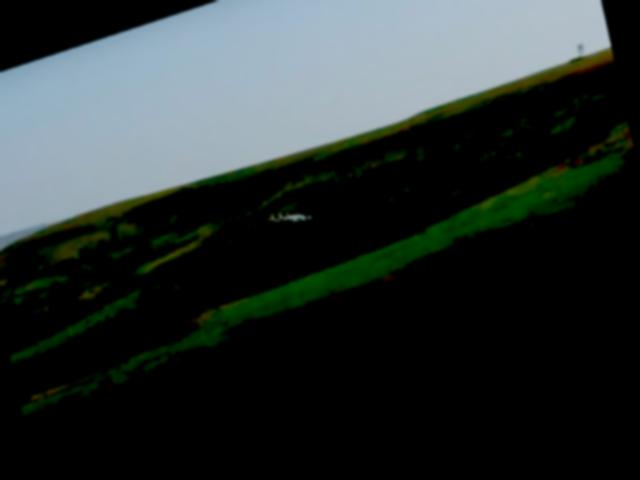iha: (267, 203, 323, 240)
